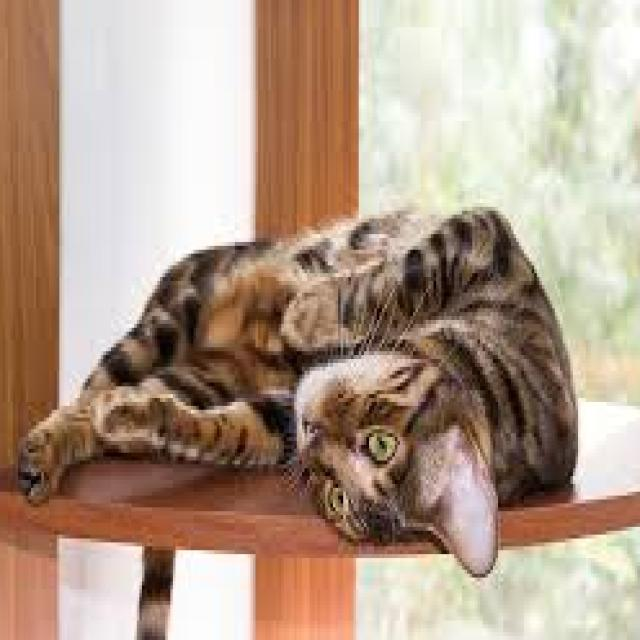Toyger: (12, 198, 583, 586)
